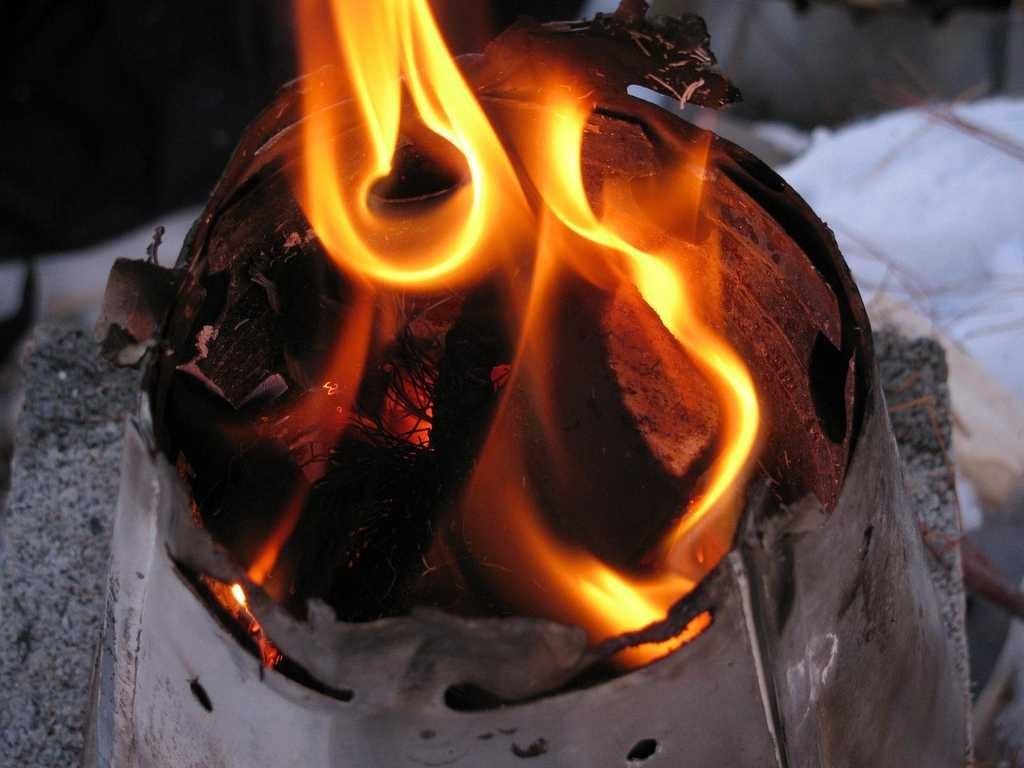fire: (296, 4, 508, 264), (622, 186, 714, 336), (706, 324, 766, 510), (524, 78, 594, 210), (566, 558, 670, 646)
